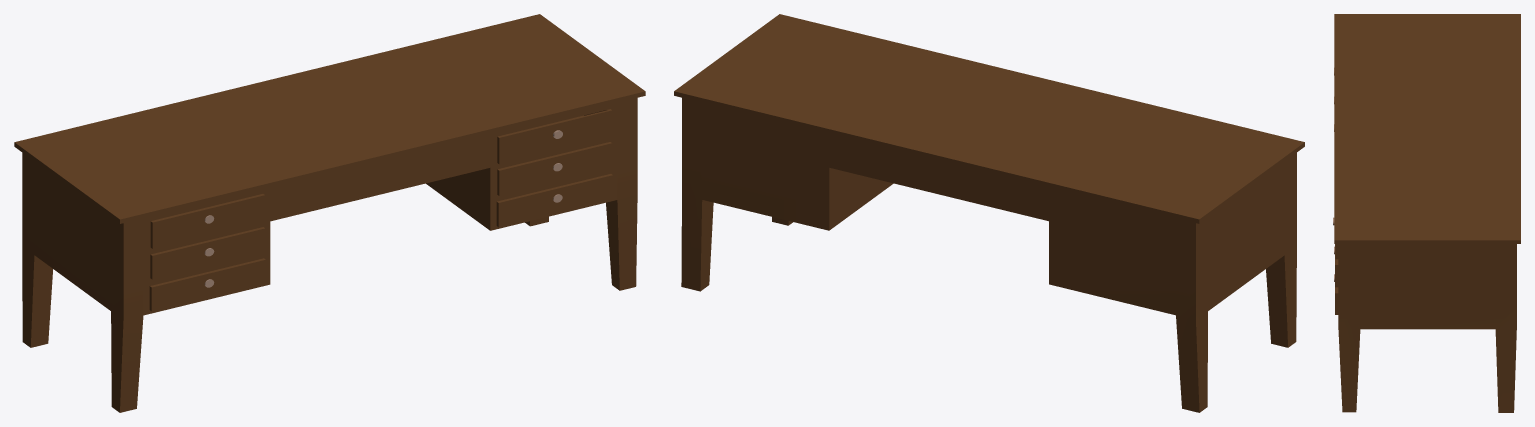
File: StudyDesk.fbx
3 renders of one model, left to right at view 1: azimuth 30°, elevation 25°; view 2: azimuth 150°, elevation 25°; view 3: azimuth 270°, elevation 25°, orthographic. The views are drawn at different scales.
Parts seen in each view (by area): view 1: desk, drawer; view 2: desk; view 3: desk.
Part boxes in pixels (x1,y1,x2,y2): desk: [14, 14, 645, 412]; drawer: [497, 109, 612, 164]; desk: [674, 14, 1304, 412]; desk: [1334, 14, 1520, 412].
Bounding box in the file's own units: 8.42 × 3.03 × 2.95.
